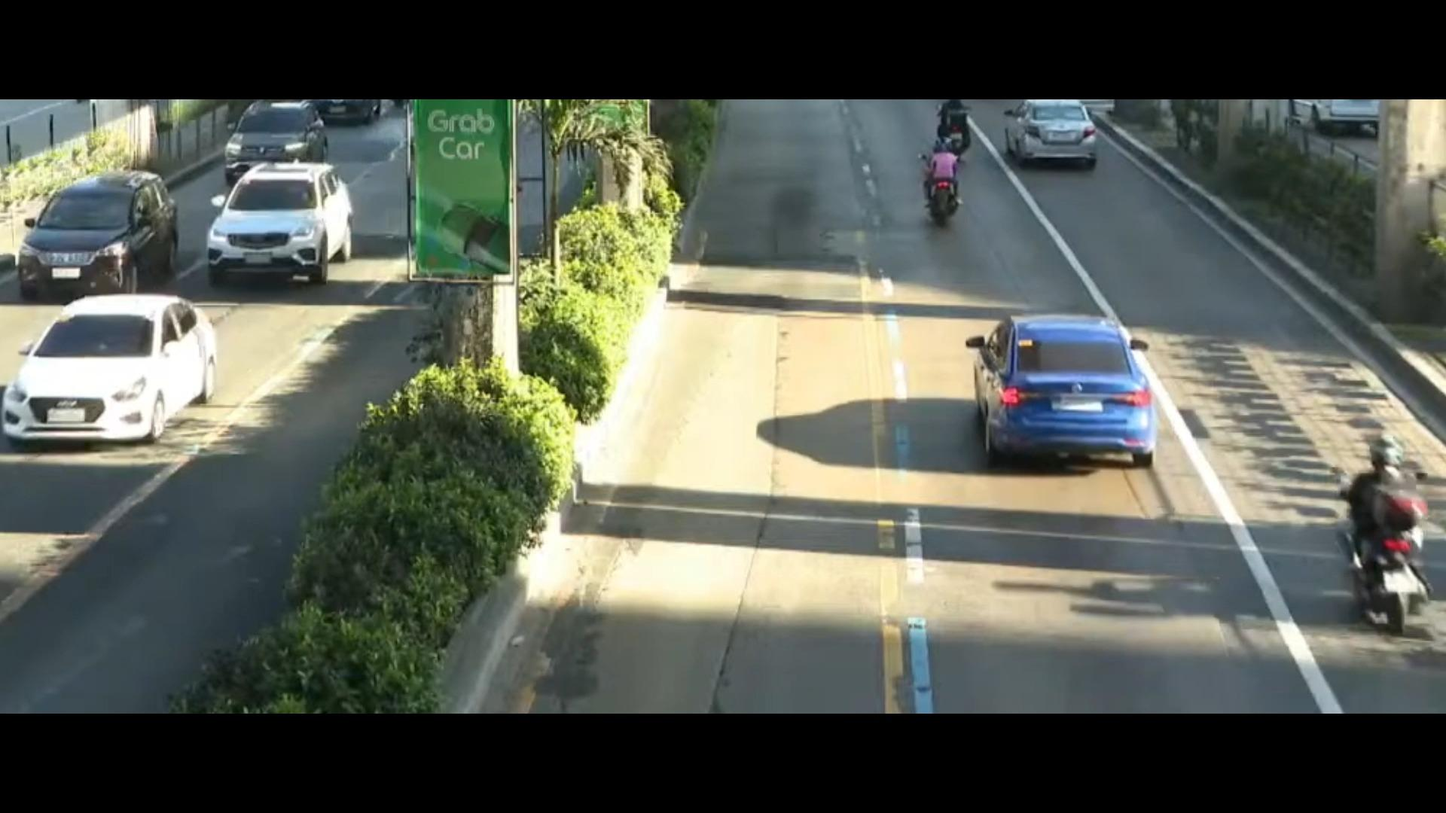Motorcycle: (1337, 407, 1446, 658), (915, 93, 995, 155), (915, 149, 971, 215)
SUV: (10, 166, 194, 318), (198, 160, 381, 280), (221, 102, 339, 187)
Sedan: (0, 279, 223, 458), (953, 301, 1165, 461), (1004, 100, 1121, 185)
